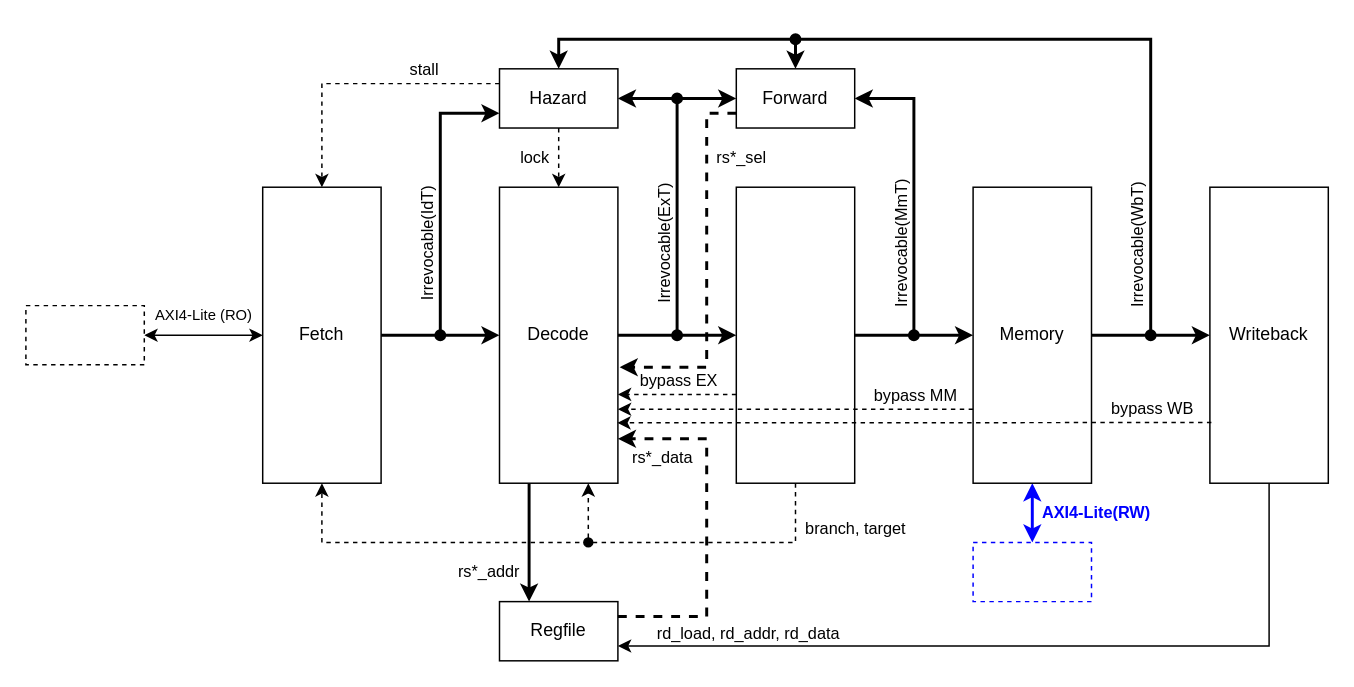
The diagram is 1354 pixels wide and 687 high, and some of its shapes have lost their labels. Here are the shapes that lost their labels. From the top down, the box of each, then its label:
(24, 304, 144, 365): Code RAM
(735, 186, 855, 483): Execute
(972, 541, 1092, 602): Data RAM
